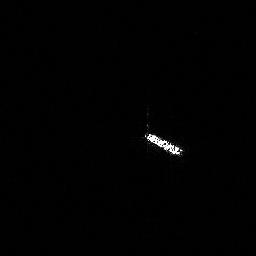ship: (139, 128, 189, 159)
